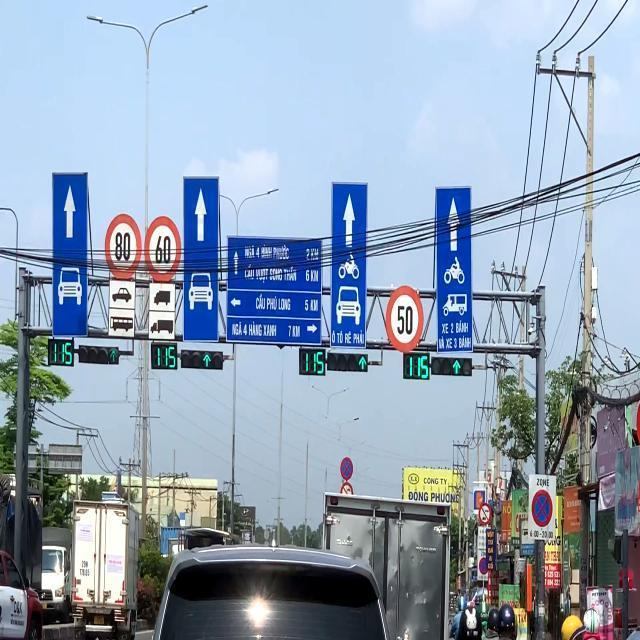127-toc-do-toi-da-50: (384, 285, 424, 353)
127-toc-do-toi-da-60: (144, 215, 183, 279)
127-toc-do-toi-da-80: (102, 212, 142, 278)
130-cam-dung-va-do-xe: (532, 489, 554, 526), (341, 456, 354, 480)
